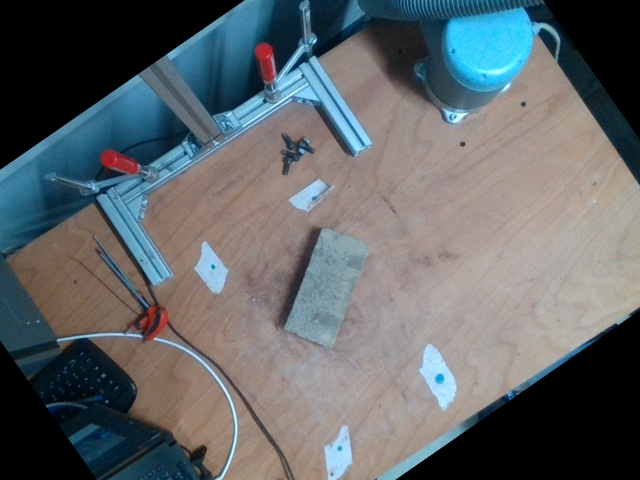brick: (286, 229, 368, 345)
